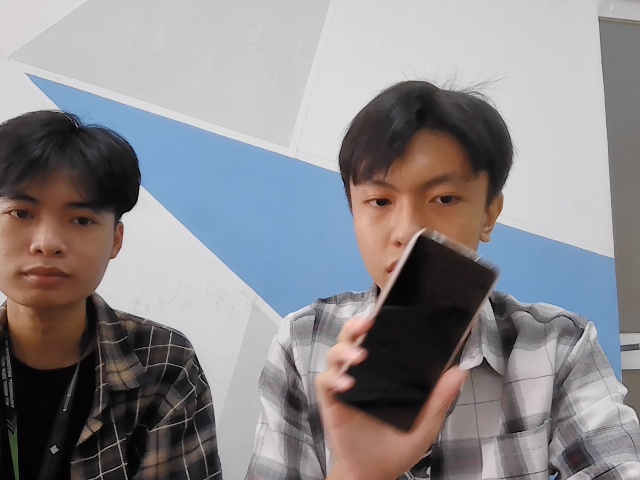human: (346, 81, 503, 297), (1, 103, 140, 304)
phone: (332, 226, 497, 435)
